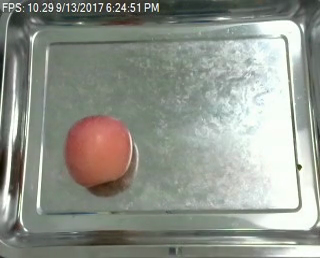Apple: (63, 114, 133, 189)
